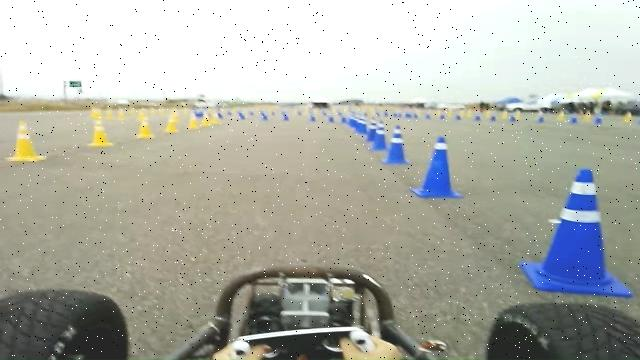blue cone: (519, 168, 633, 297), (410, 136, 464, 198), (382, 124, 410, 165), (371, 121, 388, 151)
